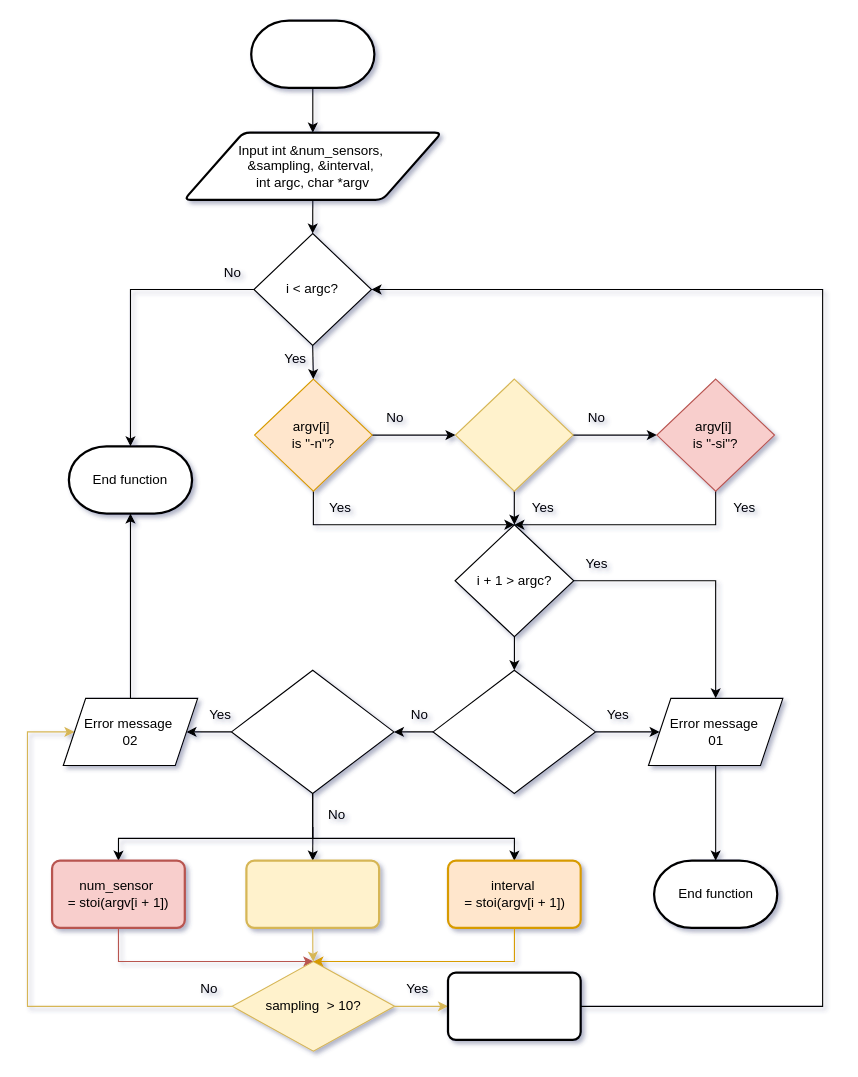
Some shapes in this 858 by 1077 pixel diagram are drawn without their labels. Here are the shapes that lost their labels. From the top down, the centre of each, then its label:
point 312,53: Start function
point 513,434: argv[i] is "-st"?
point 312,731: checkPositiveInteger (argv[i + 1]) == 2?
point 514,731: checkPositiveInteger (argv[i + 1]) == 1?
point 312,893: sampling = stoi(argv[i + 1])
point 513,1005: i = i + 1
